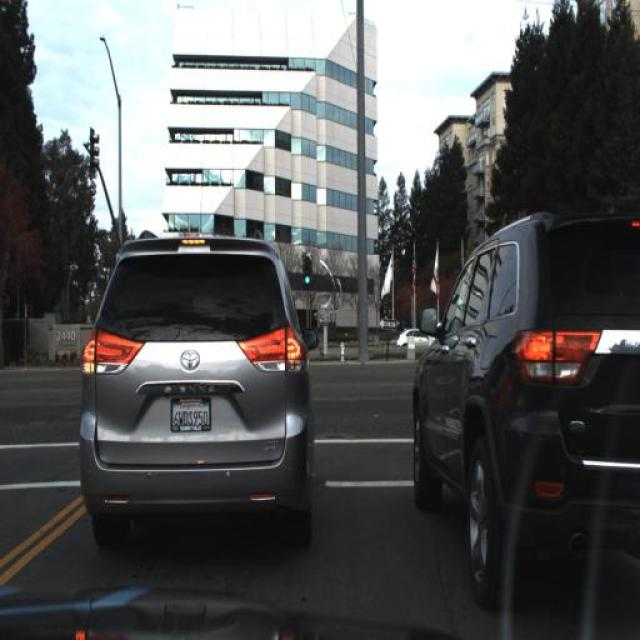car: (408, 124, 638, 636), (79, 218, 338, 556), (396, 316, 436, 356)
trafficLight-GreenLeft: (296, 232, 320, 308)
